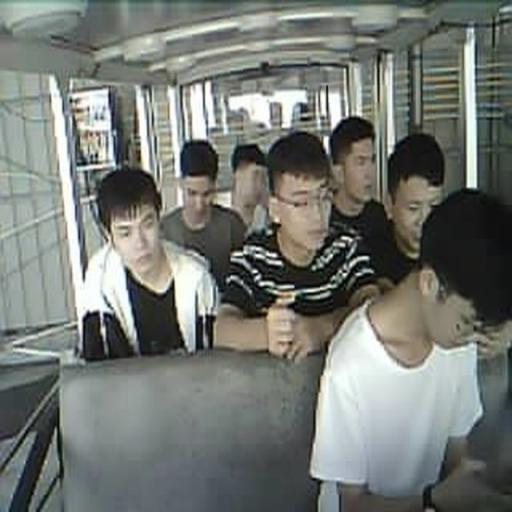persona: (308, 187, 511, 511), (213, 130, 380, 363), (77, 166, 219, 362), (158, 139, 248, 292), (372, 132, 446, 286), (327, 116, 391, 245), (229, 142, 270, 235)
